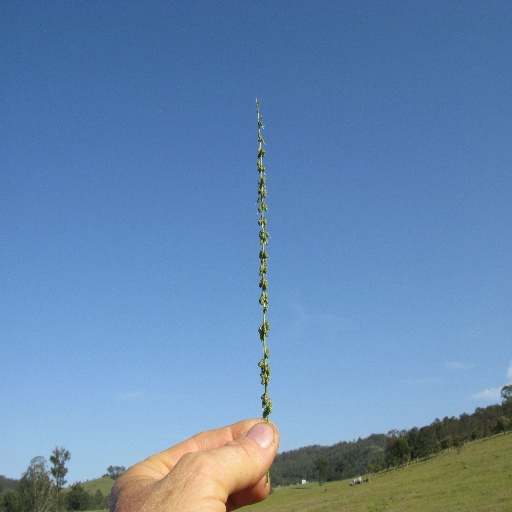hand: (113, 410, 284, 509)
